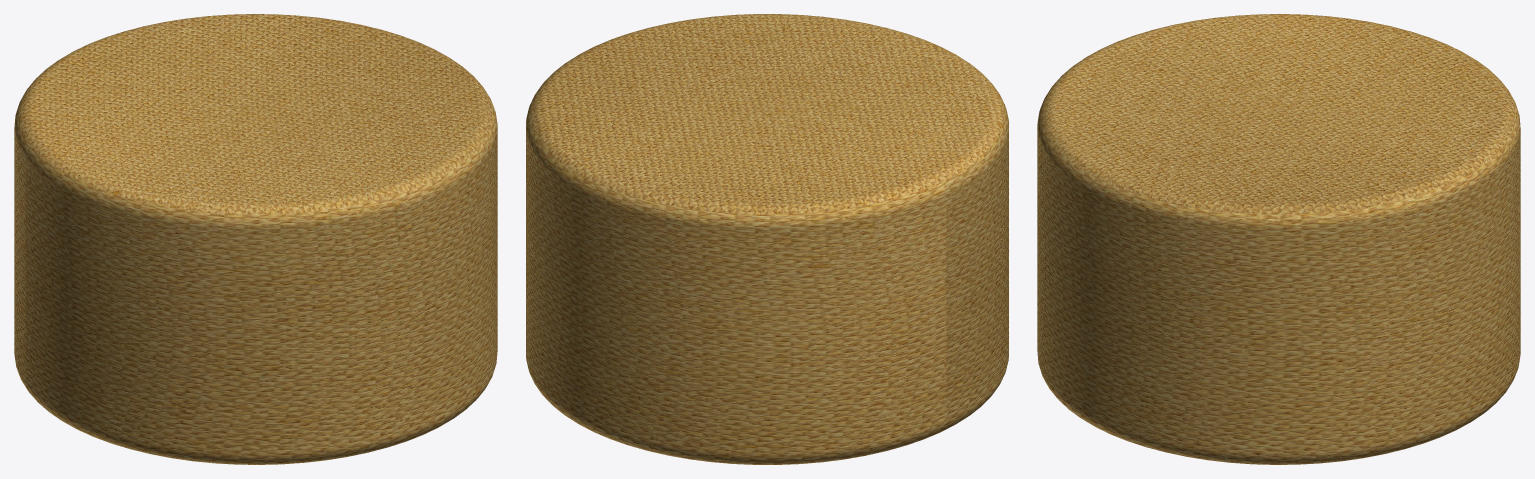
File: yellowSofa.glb
The picture shows the model from 3 angles, left to right: view 1: azimuth 30°, elevation 25°; view 2: azimuth 150°, elevation 25°; view 3: azimuth 270°, elevation 25°; orthographic projection.
Parts seen in each view (by area): view 1: Cylinder 1; view 2: Cylinder 1; view 3: Cylinder 1.
Boxes of the visible parts, x1,y1,x2,y2 form: Cylinder 1: (14,14,497,464); Cylinder 1: (526,14,1008,464); Cylinder 1: (1037,14,1520,464).
Bounding box in the file's own units: 0.2544 × 0.1506 × 0.2544.
1 material, 1 textured.
